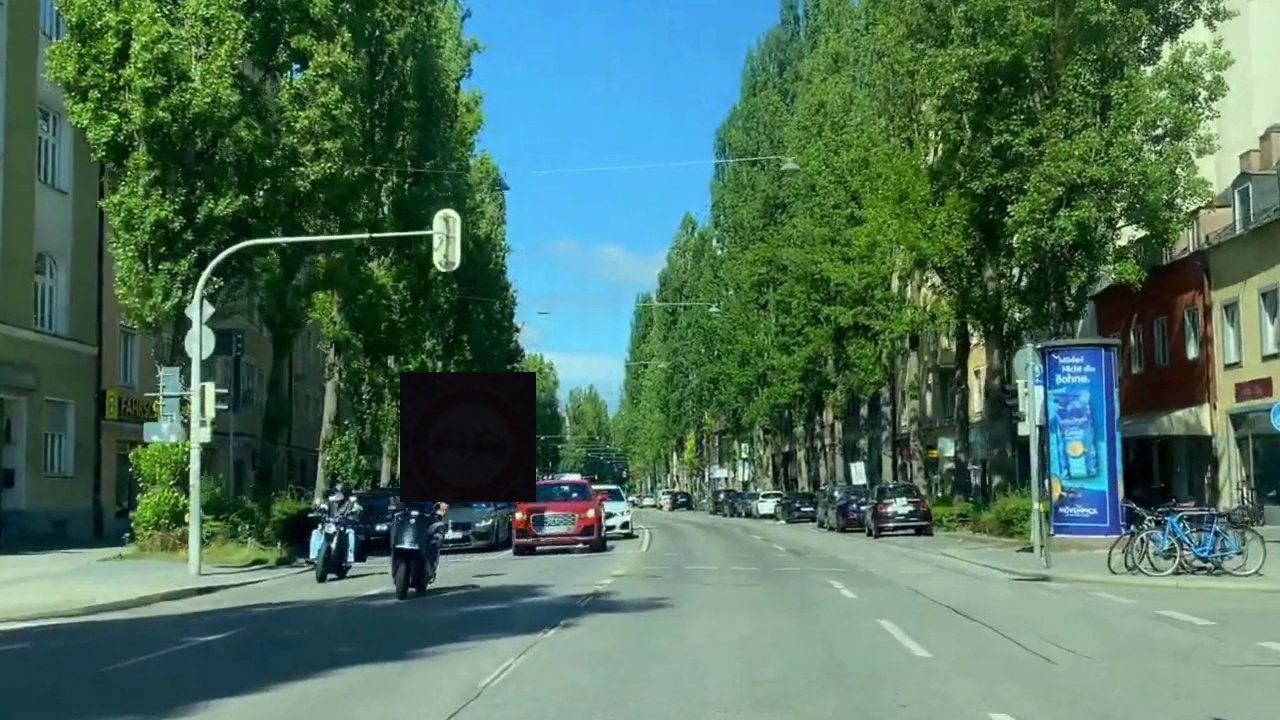No passing: (400, 372, 536, 502)
